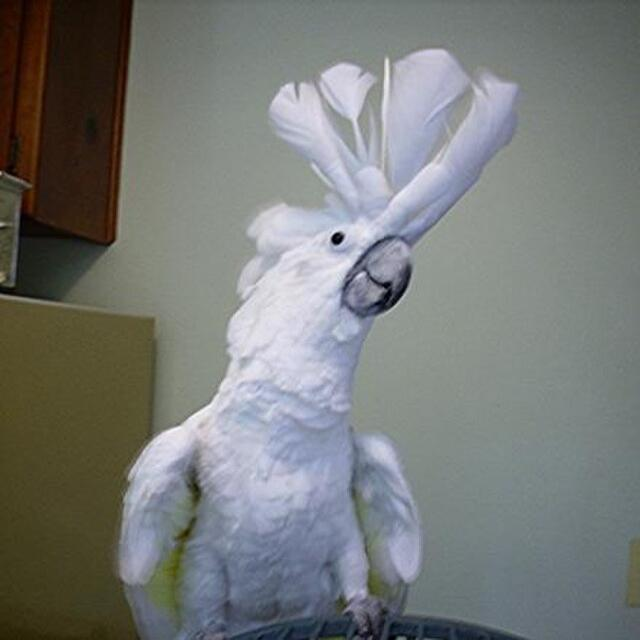Kakatua Putih: (76, 0, 534, 640)
